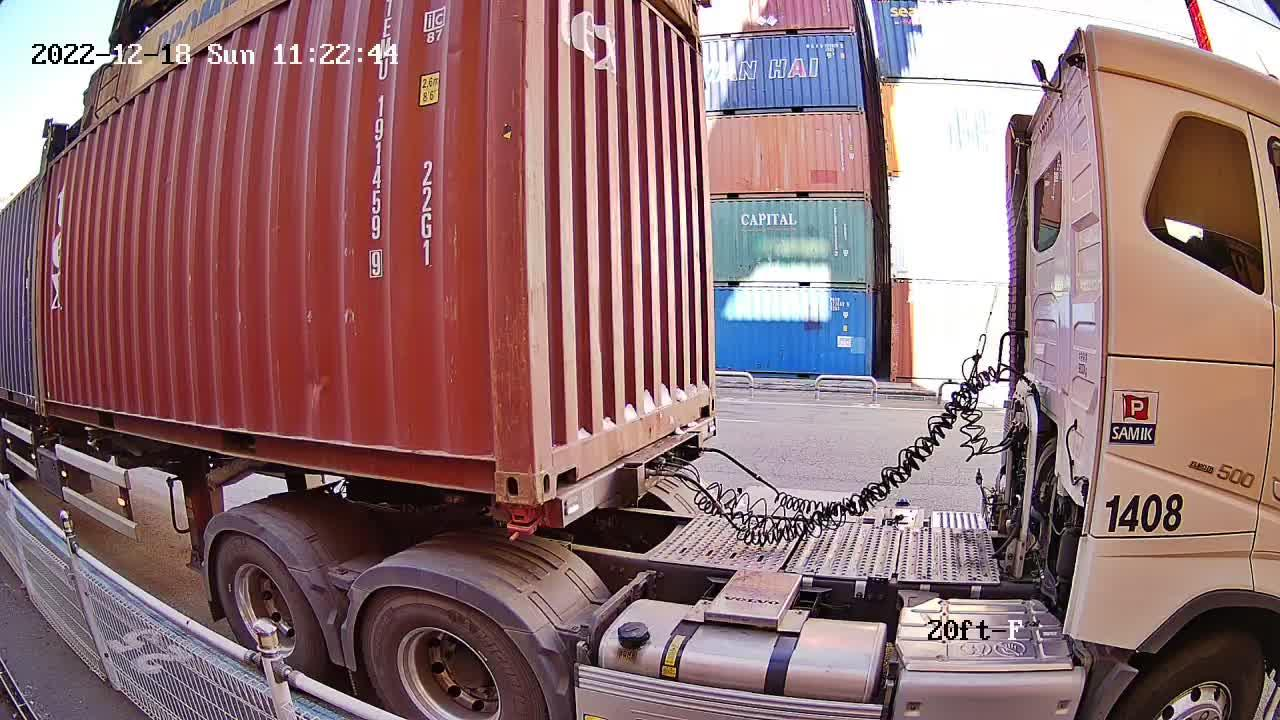Chassis: (498, 418, 714, 528)
Cone: (502, 506, 539, 540)
Hole_L: (535, 427, 583, 504)
Hole_R: (470, 439, 535, 504), (693, 384, 716, 420)
Tire: (363, 592, 547, 718), (215, 534, 318, 679)
